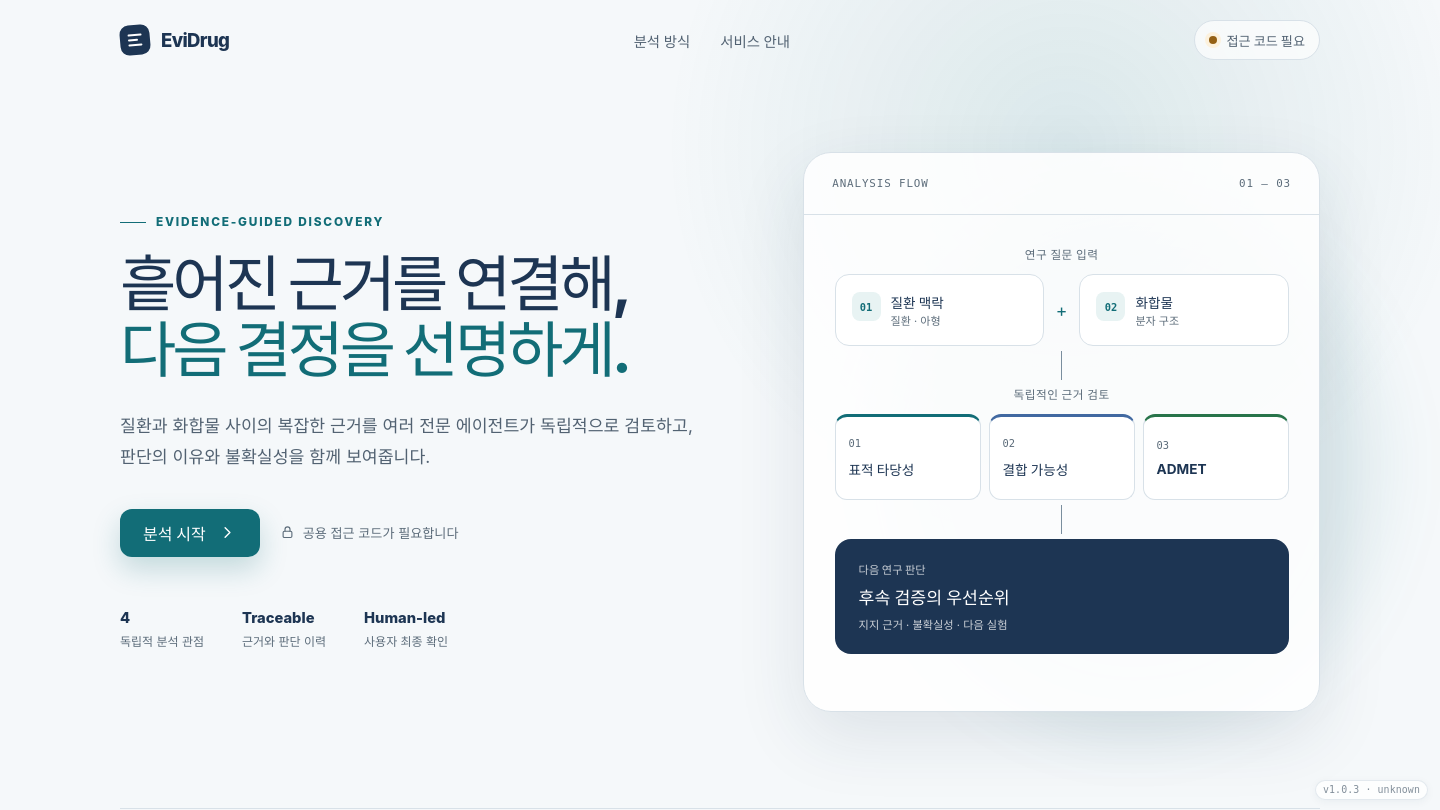
Test: App authentication flow › opens the access code panel and creates an authenticated session
Click the button "분석 시작" at (190, 533), box [120,509,260,557]
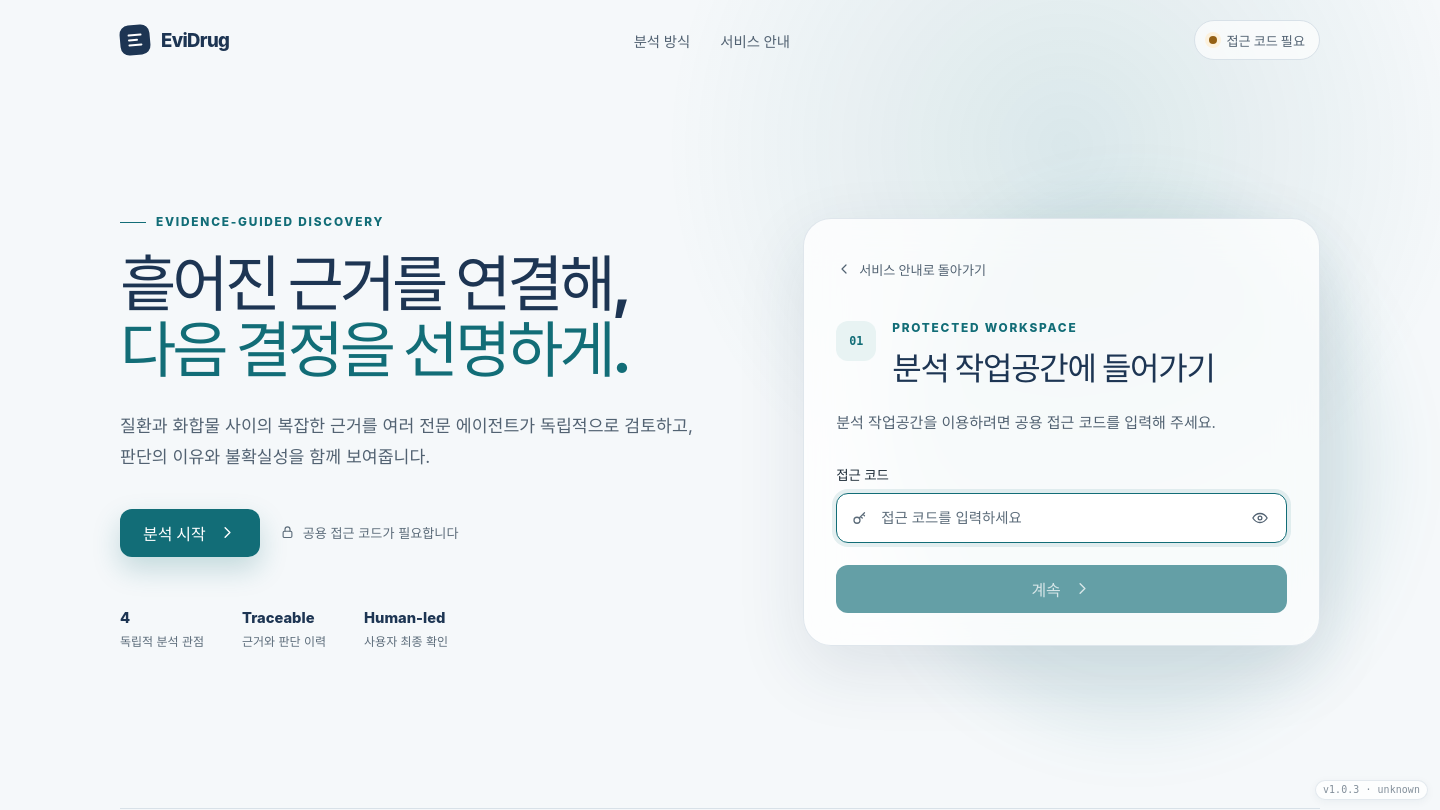
Type "shared-research-code" into the password field labelled "접근 코드" at (1056, 518), box [879,494,1232,542]
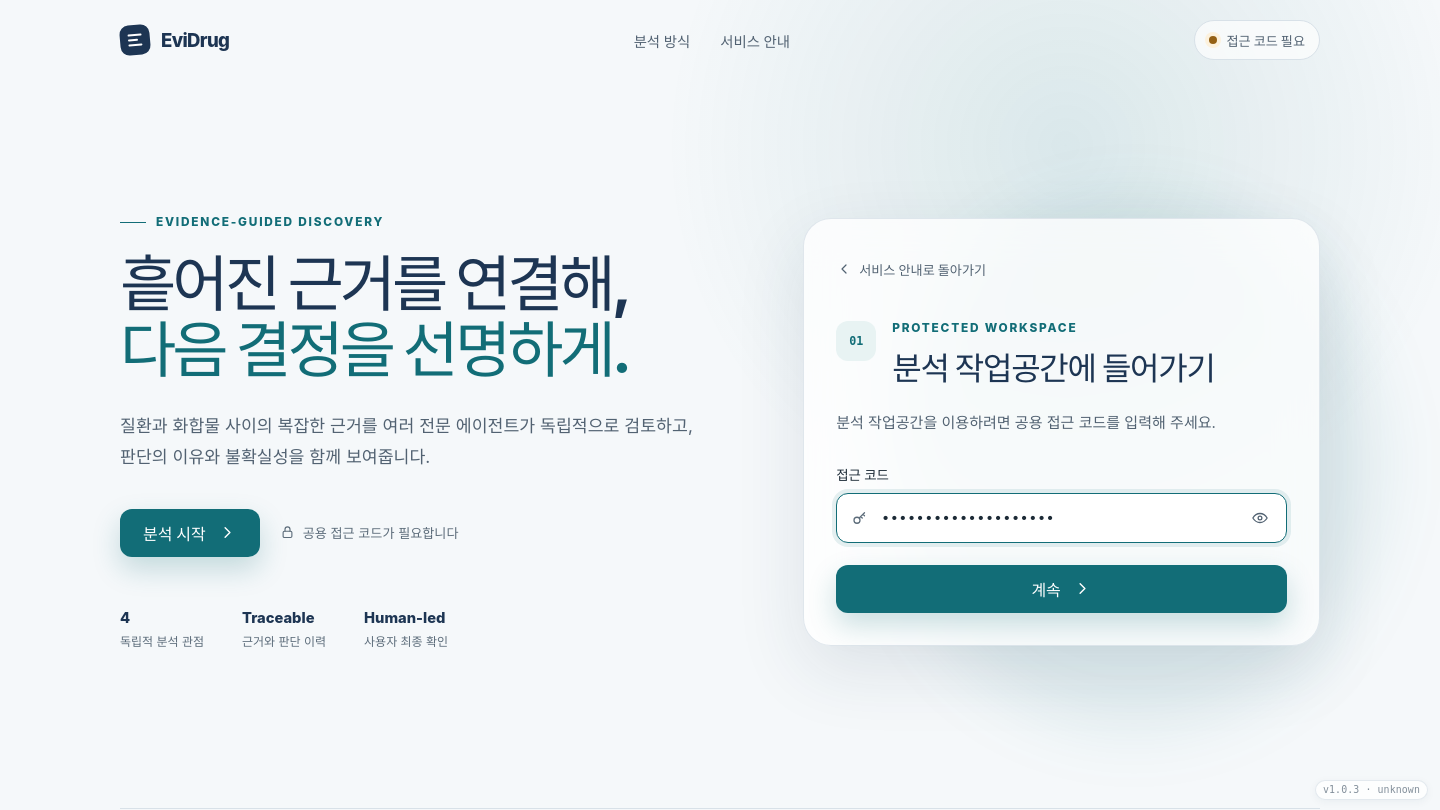
Click the button "계속" at (1062, 589), box [836,565,1287,613]
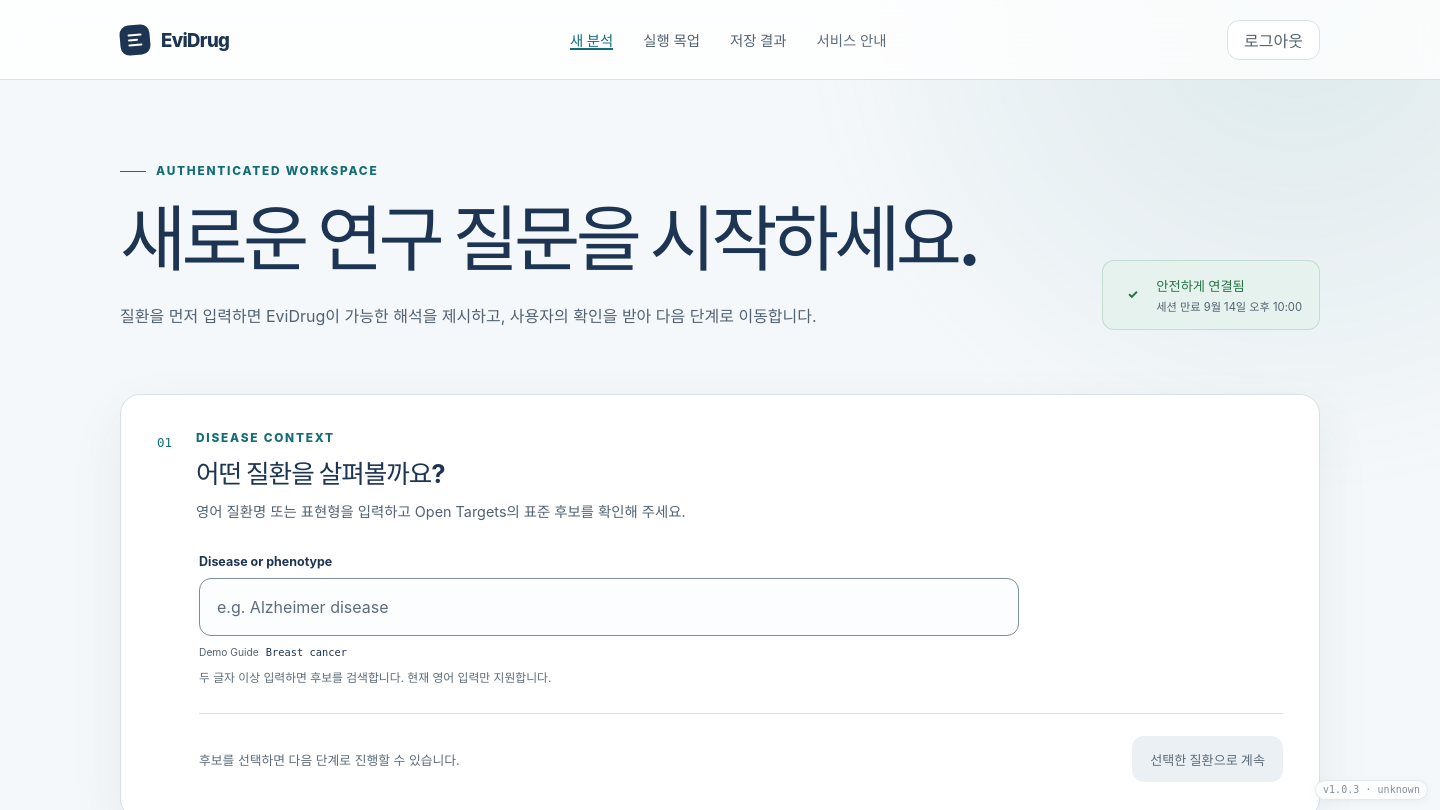
Expected: the heading "새로운 연구 질문을 시작하세요." is shown, [120,200,1054,278]
Expected: the text "안전하게 연결됨" is shown, [1156,278,1245,294]
